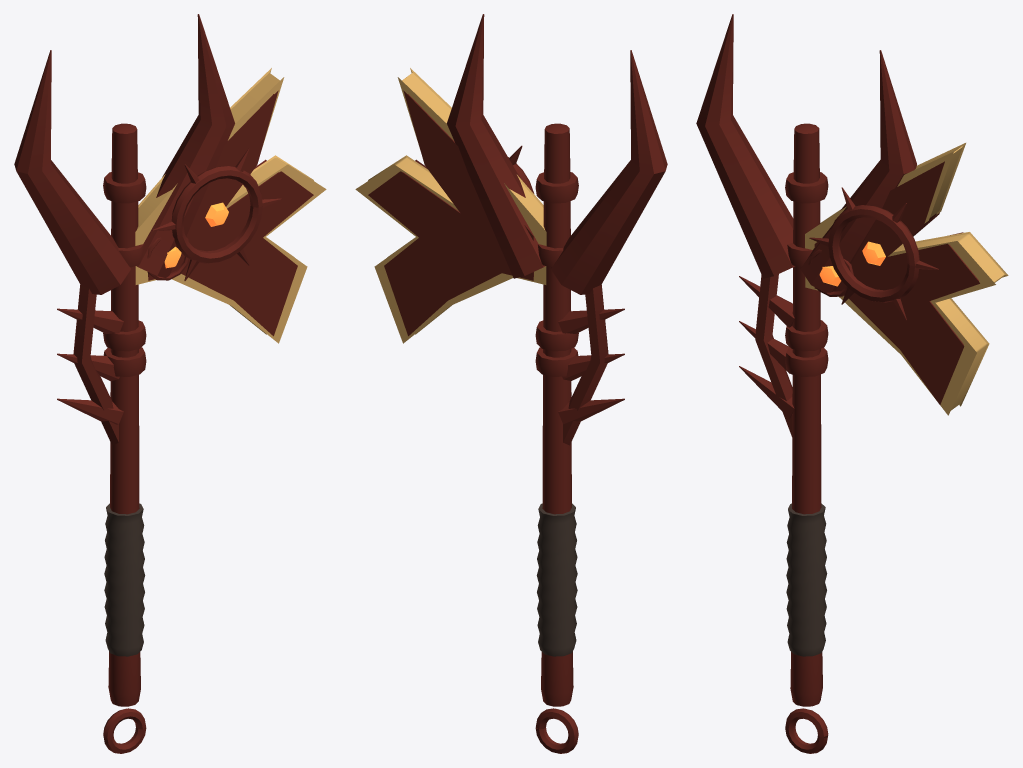
Rendered from boss_dragonforge_main_weapon.glb.
The picture shows the model from 3 angles, left to right: view 1: azimuth 30°, elevation 25°; view 2: azimuth 150°, elevation 25°; view 3: azimuth 330°, elevation 25°; orthographic projection.
Visible parts, largest first — view 1: boss_dragonforge_main_weapon; view 2: boss_dragonforge_main_weapon; view 3: boss_dragonforge_main_weapon.
Part boxes in pixels (left/top/right/bottom): boss_dragonforge_main_weapon: left=14, top=14, right=326, bottom=753; boss_dragonforge_main_weapon: left=355, top=14, right=667, bottom=753; boss_dragonforge_main_weapon: left=696, top=14, right=1008, bottom=753.
Size of the model in its own units: 0.4951 by 1.12 by 0.0873.
